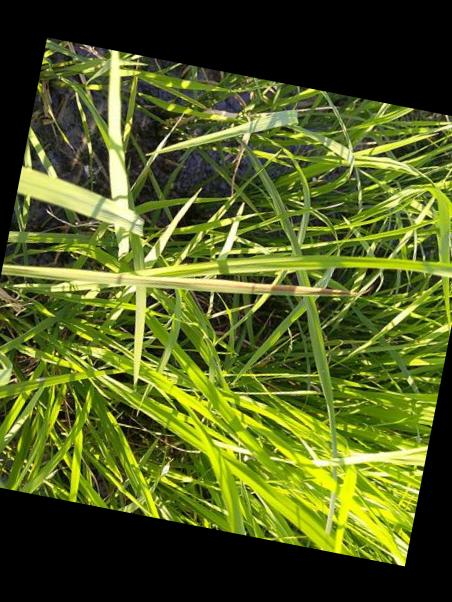Leaf Streak: (1, 261, 349, 295)
